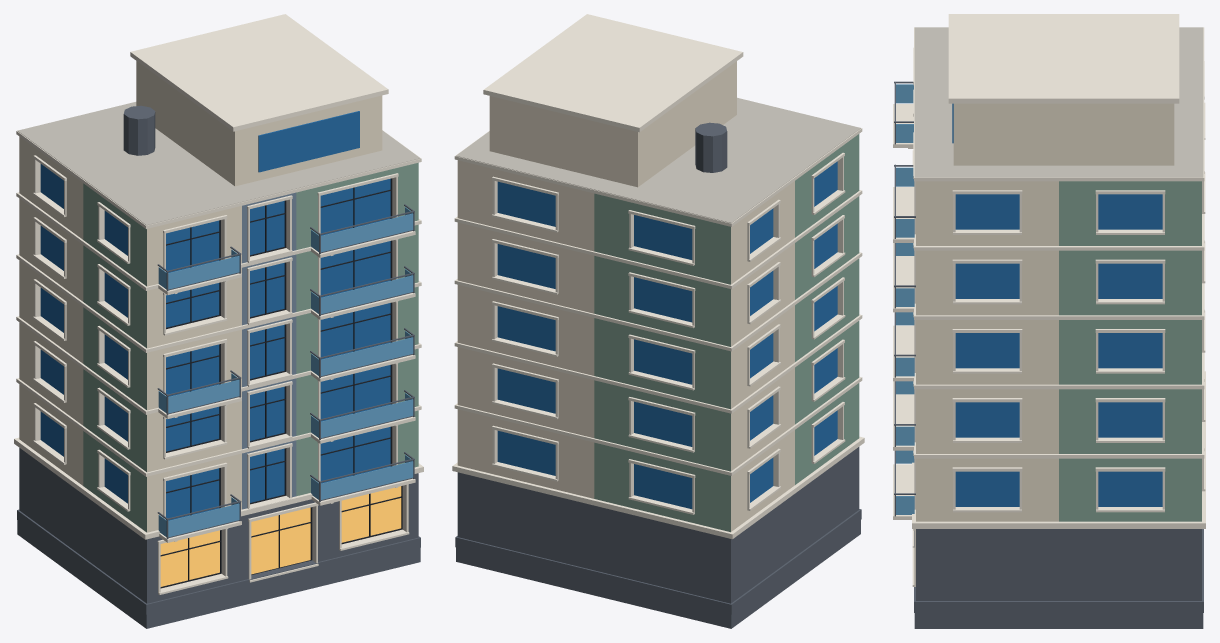
Rendered from 02b_modern_setback-lod0.glb.
3 renders of one model, left to right at view 1: azimuth 30°, elevation 25°; view 2: azimuth 150°, elevation 25°; view 3: azimuth 270°, elevation 25°, orthographic. The views are drawn at different scales.
Visible parts, largest first — view 1: ModernSetback_LOD0; view 2: ModernSetback_LOD0; view 3: ModernSetback_LOD0.
Part boxes in pixels (x1,y1,x2,y2): ModernSetback_LOD0: (14, 14, 423, 628); ModernSetback_LOD0: (452, 14, 864, 628); ModernSetback_LOD0: (893, 14, 1205, 628).
Size of the model in its own units: 14.36 by 22.93 by 12.48.
Materials: 2 (2 with a texture image).
